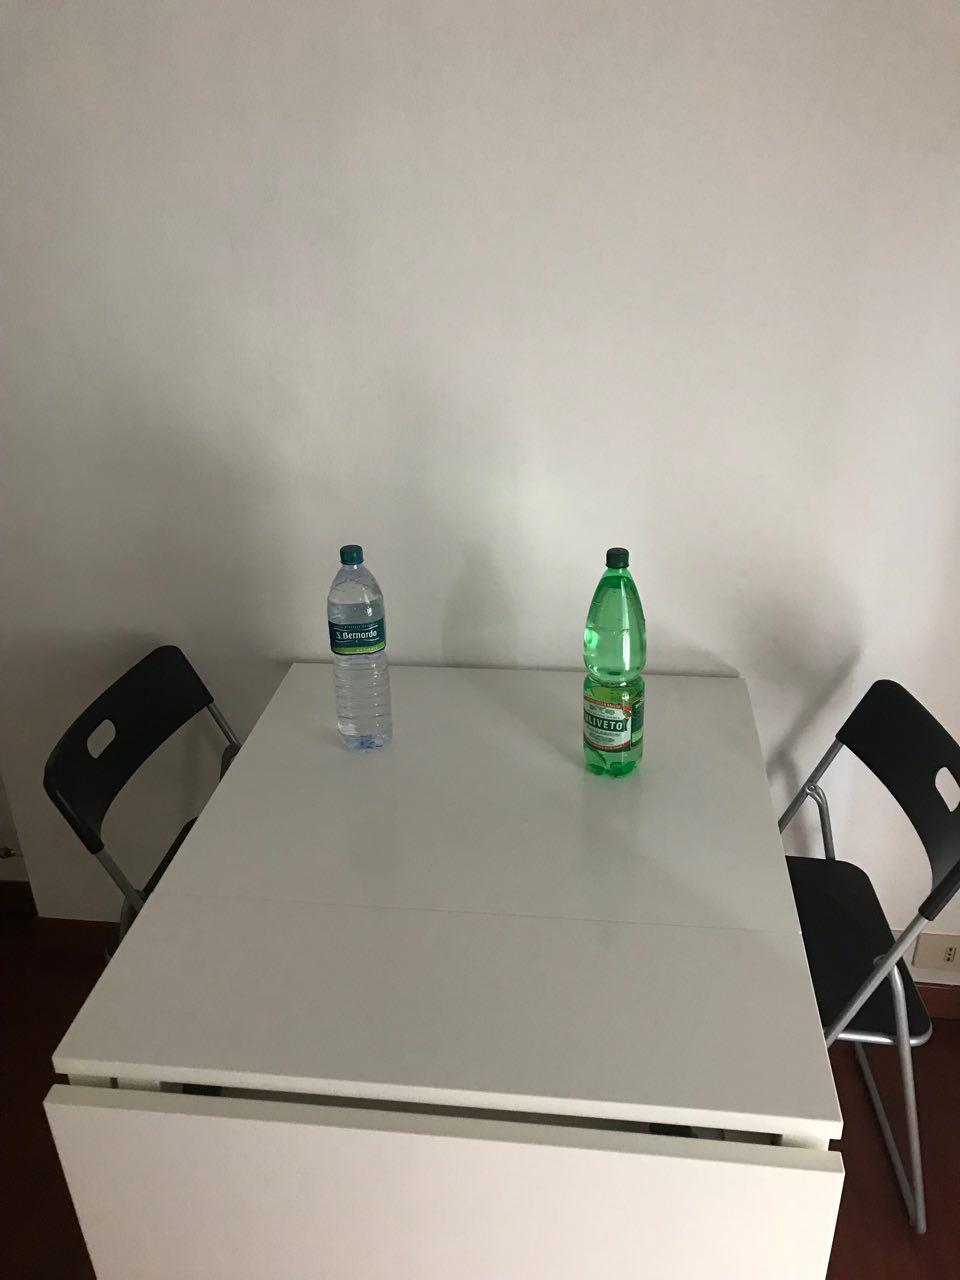san_bernardo: (327, 544, 393, 753)
